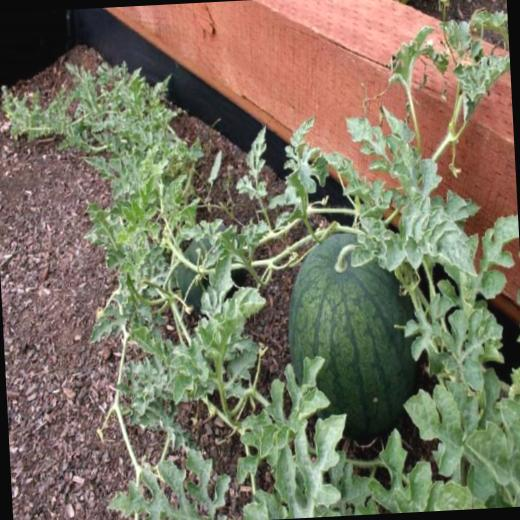Cherry: (283, 224, 430, 457)
